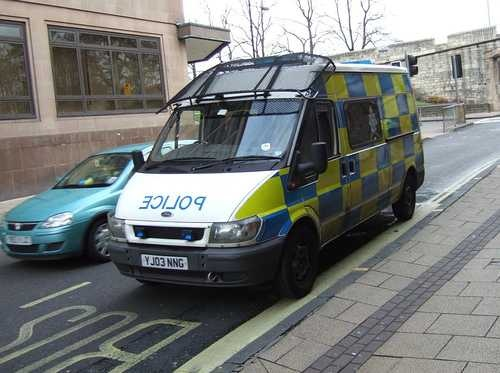Police Van: (113, 38, 440, 298)
